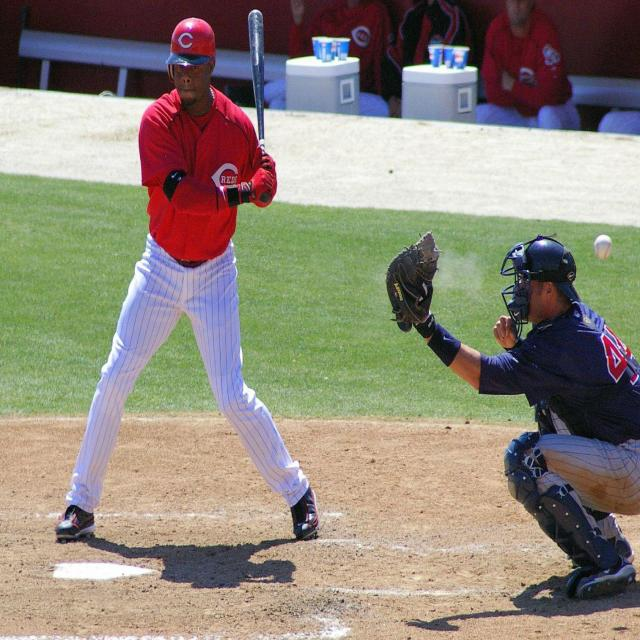baseball: (592, 234, 613, 259)
